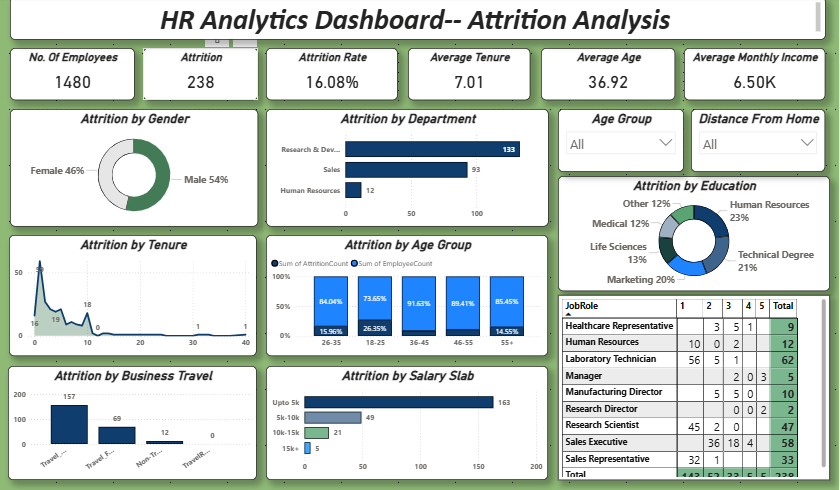

This screenshot's page, from the dashboard's own definition file:
{"tool":"powerbi","page":{"name":"Dashboard","canvas":[1414,830],"ordinal":0},"visuals":[{"type":"card","title":"No.  Of Employees","fields":{"Values":["CountNonNull(HR_Analytics.EmpID)"]},"box":[18,86,210,88],"z":0},{"type":"card","title":"Attrition","fields":{"Values":["Sum(HR_Analytics.AttritionCount)"]},"box":[242,86,194,88],"z":1000},{"type":"card","title":"Attrition Rate","fields":{"Values":["HR_Analytics.AttritionRate"]},"box":[450,86,222,88],"z":2000},{"type":"card","title":"Average Age","fields":{"Values":["Avg(HR_Analytics.Age)"]},"box":[912,86,226,88],"z":3000},{"type":"card","title":"Average Monthly Income","fields":{"Values":["Avg(HR_Analytics.MonthlyIncome)"]},"box":[1154,86,238,88],"z":4000},{"type":"card","title":"Average Tenure","fields":{"Values":["Avg(HR_Analytics.YearsAtCompany)"]},"box":[688,86,206,88],"z":5000},{"type":"donutChart","title":"Attrition by Gender","fields":{"Y":["Avg(HR_Analytics.AttritionCount)"],"Category":["HR_Analytics.Gender"]},"box":[18,188,418,198],"z":6000},{"type":"donutChart","title":"Attrition by Education","fields":{"Y":["Avg(HR_Analytics.AttritionCount)"],"Category":["HR_Analytics.EducationField"]},"box":[942,302,458,194],"z":7000},{"type":"hundredPercentStackedColumnChart","title":"Attrition by Age Group","fields":{"Category":["HR_Analytics.AgeGroup"],"Y":["Sum(HR_Analytics.AttritionCount)","Sum(HR_Analytics.EmployeeCount)"]},"box":[450,400,475,203.8],"z":8000},{"type":"barChart","title":"Attrition by Salary Slab","fields":{"Y":["Sum(HR_Analytics.AttritionCount)"],"Category":["HR_Analytics.SalarySlab"]},"box":[450,621.2,475,192.3],"z":9000},{"type":"pivotTable","fields":{"Columns":["HR_Analytics.JobLevel"],"Rows":["HR_Analytics.JobRole"],"Values":["Sum(HR_Analytics.AttritionCount)"]},"box":[942,502,458,312],"z":10000},{"type":"areaChart","title":"Attrition by Tenure","fields":{"Category":["HR_Analytics.YearsAtCompany"],"Y":["Sum(HR_Analytics.AttritionCount)"]},"box":[17.3,400,417.3,203.8],"z":10001},{"type":"clusteredColumnChart","title":"Attrition by Business Travel","fields":{"Category":["HR_Analytics.BusinessTravel"],"Y":["Sum(HR_Analytics.AttritionCount)"]},"box":[15.4,621.2,419.2,192.3],"z":10002},{"type":"barChart","title":"Attrition by Department","fields":{"Y":["Sum(HR_Analytics.AttritionCount)"],"Category":["HR_Analytics.Department"]},"box":[450,188,476,198],"z":10003},{"type":"slicer","title":"Age Group","fields":{"Values":["HR_Analytics.AgeGroup"]},"box":[942,188,212,106],"z":10004},{"type":"slicer","title":"Distance From Home","fields":{"Values":["HR_Analytics.DistanceFromHome"]},"box":[1166,188,226,106],"z":10005},{"type":"textbox","box":[18,0,1374,72],"z":10006}]}

Visuals, with their boxes in screenshot pixels (x1, y1, x2, y2), scaled from the page's 1414x830 canvas onto the 840x490 screenshot:
"No.  Of Employees" card: x1=11, y1=51, x2=135, y2=103
"Attrition" card: x1=144, y1=51, x2=259, y2=103
"Attrition Rate" card: x1=267, y1=51, x2=399, y2=103
"Average Age" card: x1=542, y1=51, x2=676, y2=103
"Average Monthly Income" card: x1=686, y1=51, x2=827, y2=103
"Average Tenure" card: x1=409, y1=51, x2=531, y2=103
"Attrition by Gender" donutChart: x1=11, y1=111, x2=259, y2=228
"Attrition by Education" donutChart: x1=560, y1=178, x2=832, y2=293
"Attrition by Age Group" hundredPercentStackedColumnChart: x1=267, y1=236, x2=550, y2=356
"Attrition by Salary Slab" barChart: x1=267, y1=367, x2=550, y2=480
pivotTable - HR_Analytics.JobLevel x HR_Analytics.JobRole: x1=560, y1=296, x2=832, y2=481
"Attrition by Tenure" areaChart: x1=10, y1=236, x2=258, y2=356
"Attrition by Business Travel" clusteredColumnChart: x1=9, y1=367, x2=258, y2=480
"Attrition by Department" barChart: x1=267, y1=111, x2=550, y2=228
"Age Group" slicer: x1=560, y1=111, x2=686, y2=174
"Distance From Home" slicer: x1=693, y1=111, x2=827, y2=174
textbox: x1=11, y1=0, x2=827, y2=43
